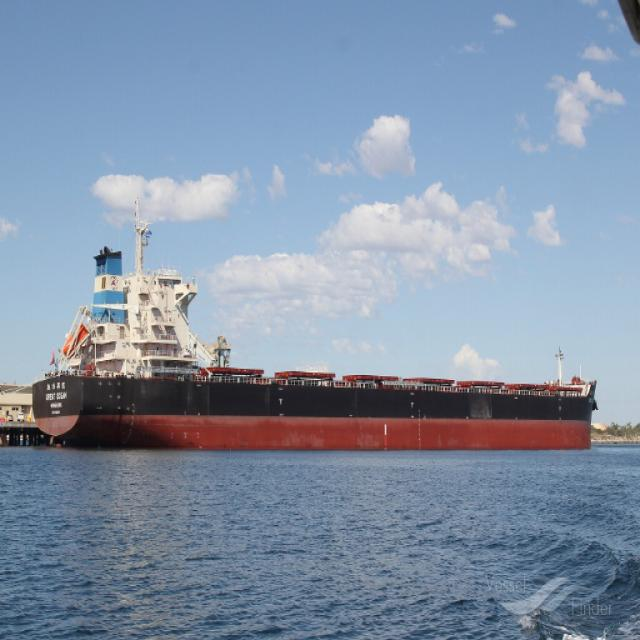Bulk Carrier: (32, 246, 597, 454)
